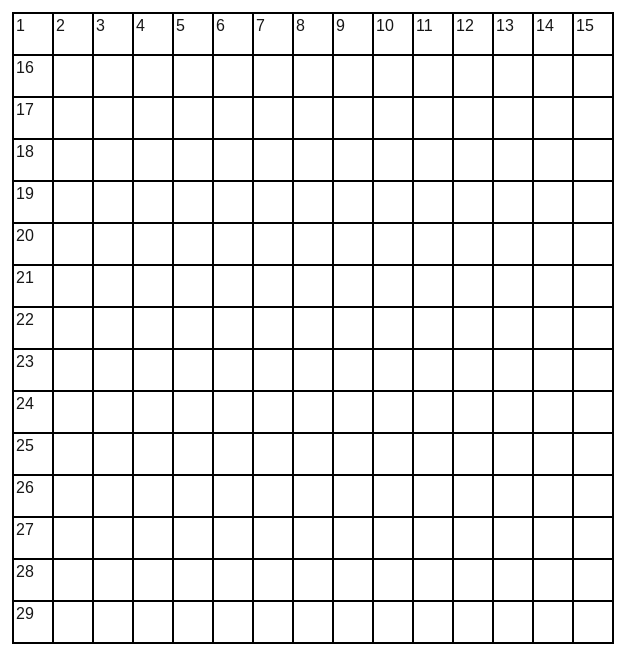
Scenario: Text Edit Mode › allows uppercase letters
This screenshot has width=631, height=661.
Click the 1st field with test id "crossword-input". click: click(34, 34)
box: left=14, top=14, right=54, bottom=54
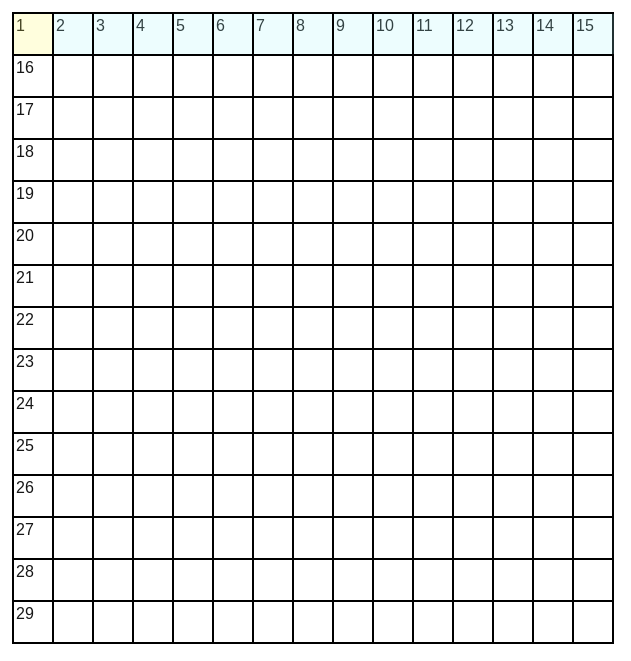
Type keys "B"
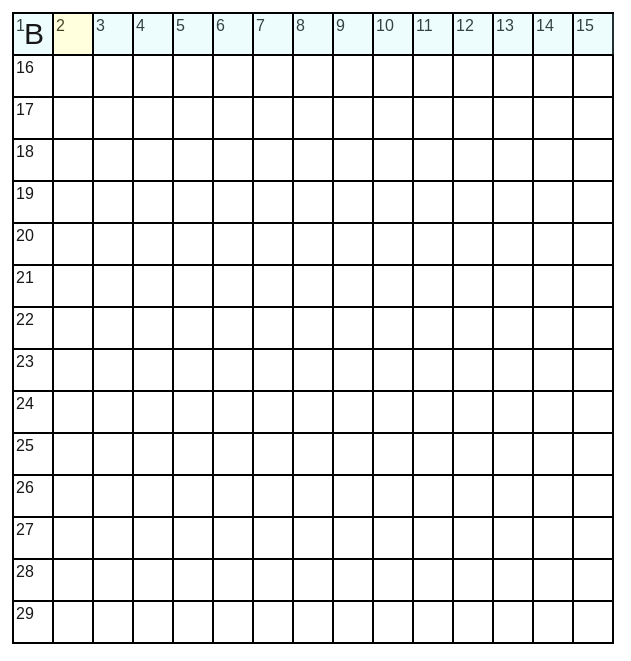
Now the 1st field with test id "crossword-input" holds "B", box left=14, top=14, right=54, bottom=54
